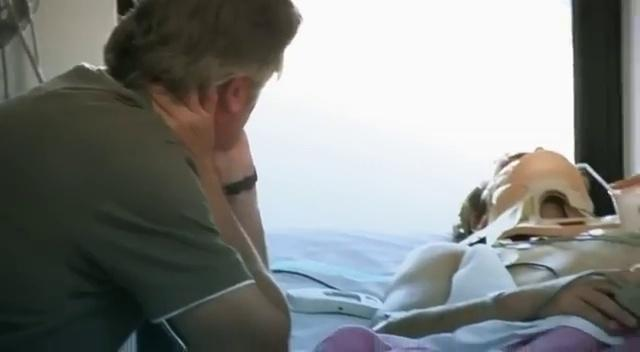others: (0, 0, 302, 351)
patient: (312, 145, 638, 350)
